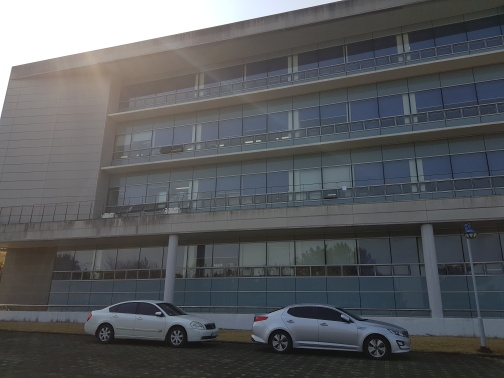Engineering College Building 4: (1, 54, 501, 312), (114, 25, 487, 283)
